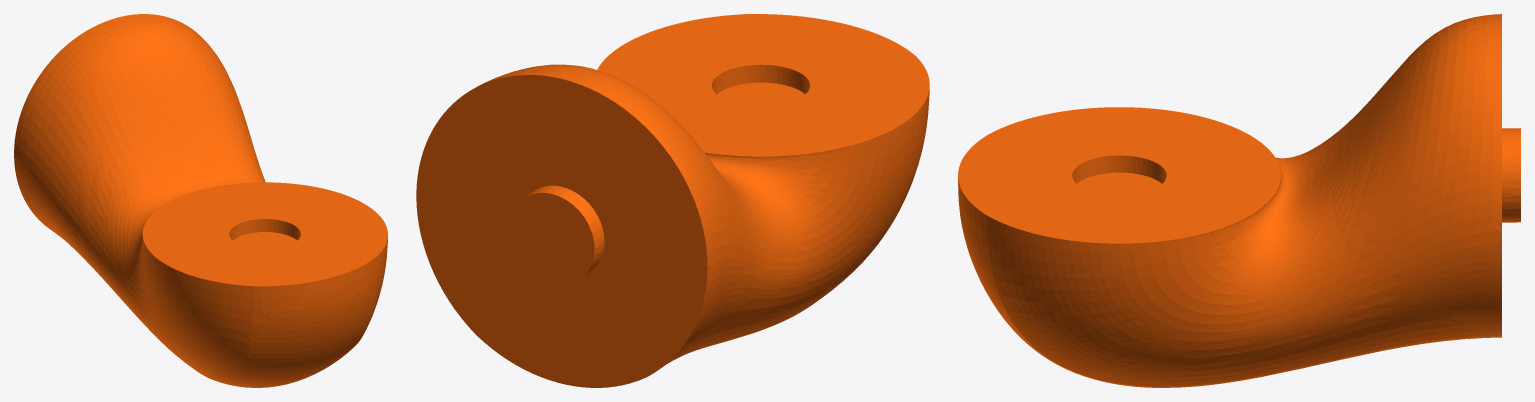
The model's file is iiwa_link_1_visuals_link_1_mesh.obj.
The picture shows the model from 3 angles, left to right: view 1: azimuth 30°, elevation 25°; view 2: azimuth 150°, elevation 25°; view 3: azimuth 270°, elevation 25°; orthographic projection. The views are drawn at different scales.
Bounding box in the file's own units: 0.171 × 0.2012 × 0.298.
